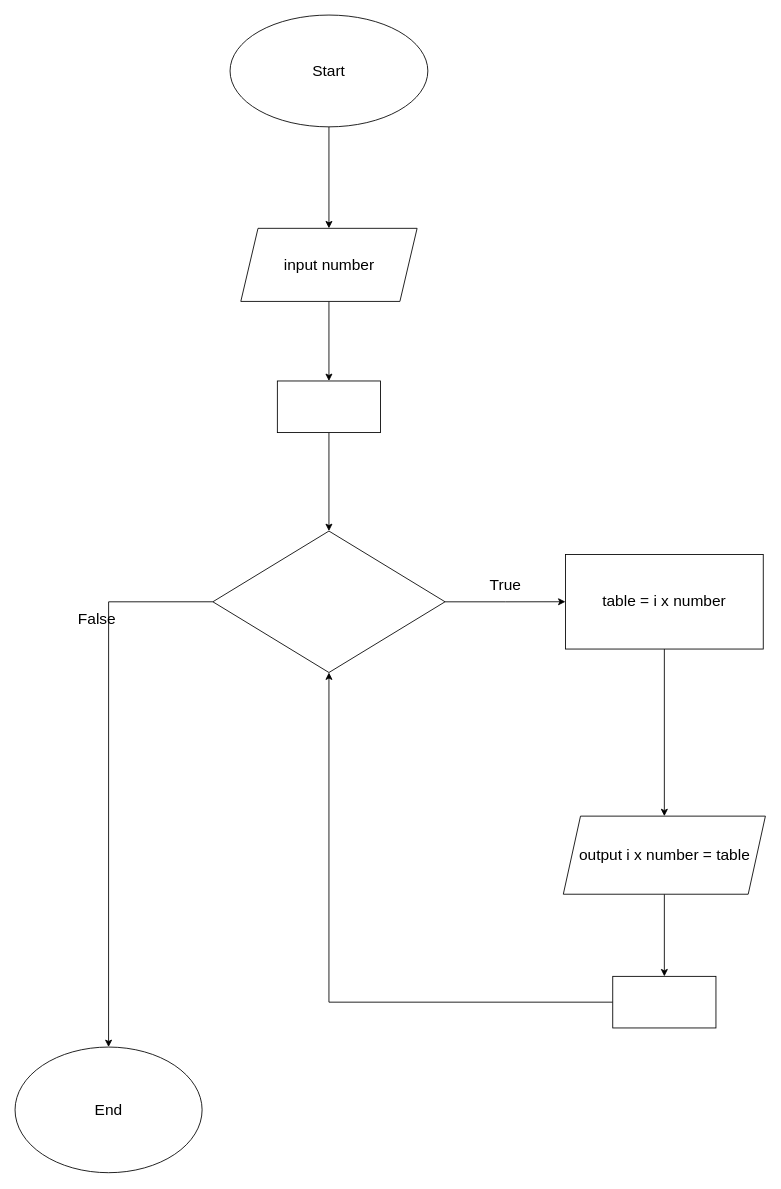
Image size: 781x1189. Some labels were removed from this diagram. The shapes that lost their labels are listed below. From the top down, each one's centre as x and y in pixels, then its label:
At (328,406): "i = 1".
At (328,601): "i <=10".
At (664,1001): "i = i + 1".
